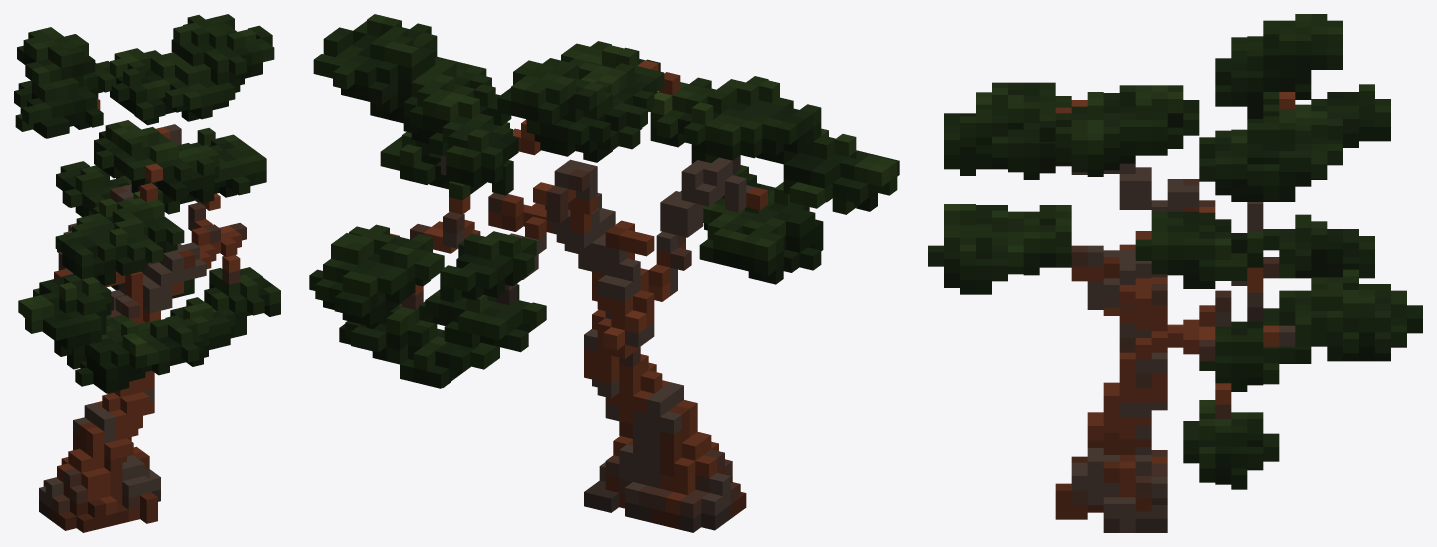
File: arvore_torta_floresta_01_LOD4.fbx
3 views of the same model, side by side, from view 1: azimuth 30°, elevation 25°; view 2: azimuth 150°, elevation 25°; view 3: azimuth 270°, elevation 25° (orthographic). The views are drawn at different scales.
Parts seen in each view (by area): view 1: arvore_torta_floresta_01_LOD4; view 2: arvore_torta_floresta_01_LOD4; view 3: arvore_torta_floresta_01_LOD4.
Boxes of the visible parts, x1,y1,x2,y2 form: arvore_torta_floresta_01_LOD4: (14,14,280,532); arvore_torta_floresta_01_LOD4: (309,14,899,532); arvore_torta_floresta_01_LOD4: (928,14,1422,532).
Size of the model in its own units: 969 by 1062 by 969.
